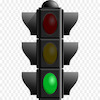green: (15, 14, 85, 88)
